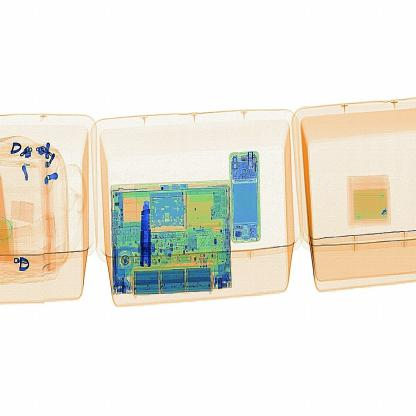pliers: (128, 190, 168, 275)
